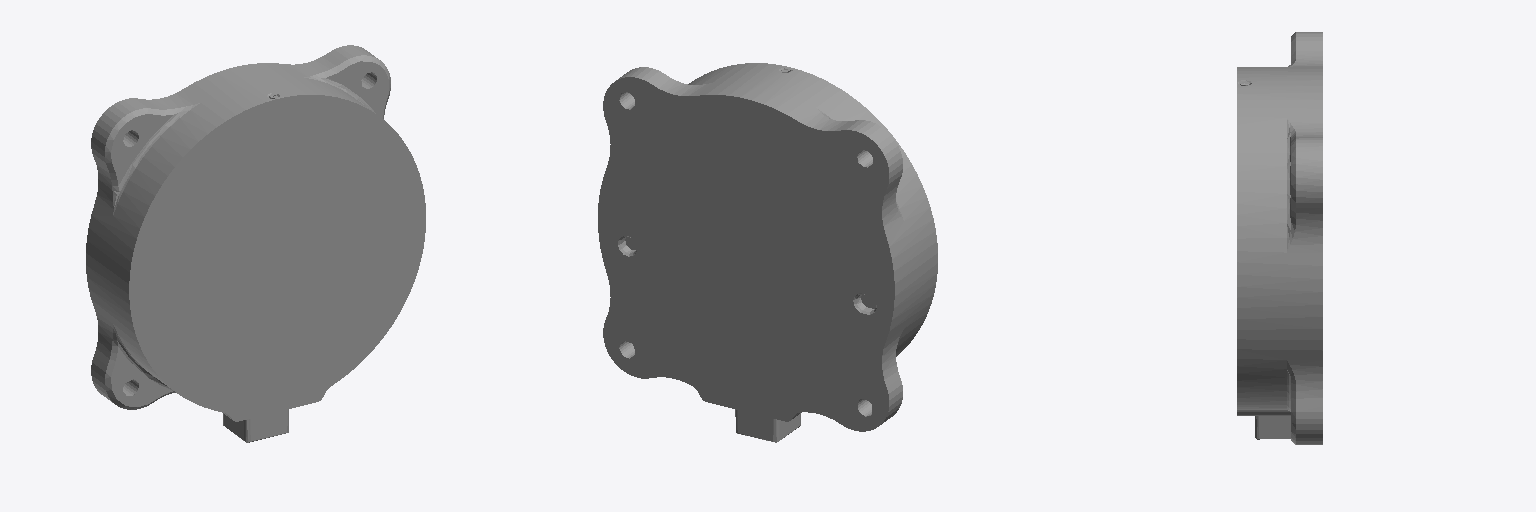
3 views of the same model, side by side, from view 1: azimuth 30°, elevation 25°; view 2: azimuth 150°, elevation 25°; view 3: azimuth 270°, elevation 25° (orthographic).
Visible parts, largest first — view 1: base; view 2: base; view 3: base.
Part boxes in pixels (x1,y1,x2,y2): base: (86, 45, 425, 442); base: (598, 63, 937, 442); base: (1237, 32, 1322, 444).
Bounding box in the file's own units: 0.15 × 0.1671 × 0.038.
Materials: 1 (1 with a texture image).